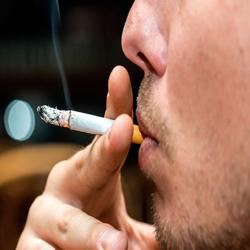smoking: (35, 97, 162, 172)
